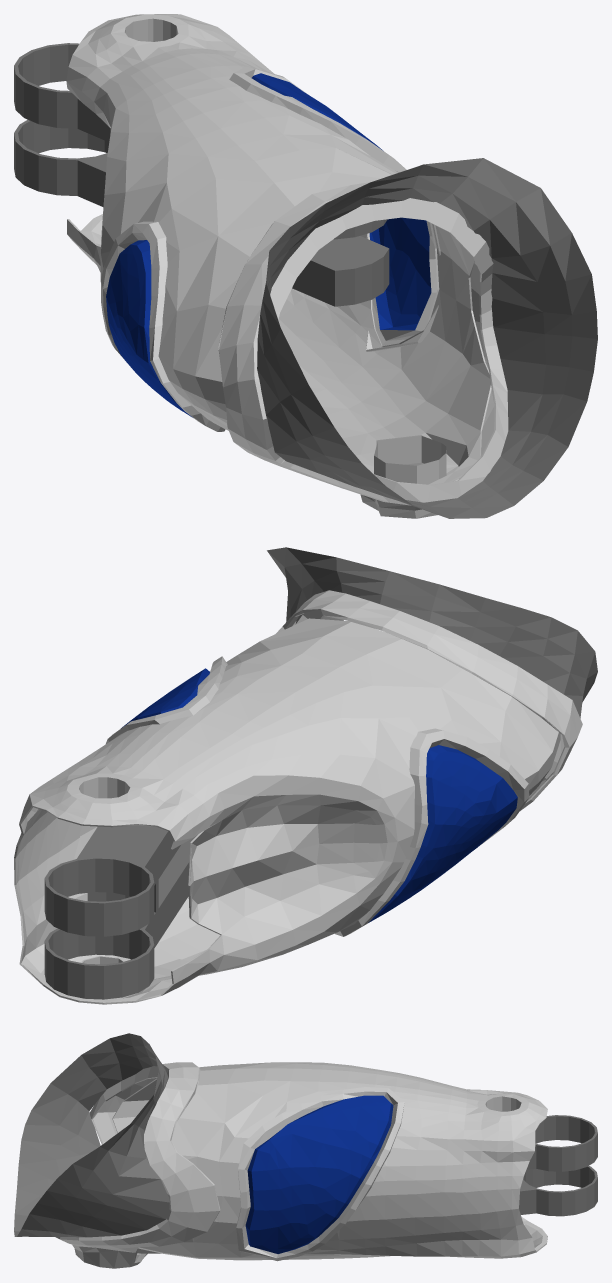
The model's file is RHipPitch.obj.
3 views of the same model, one above another, from view 1: azimuth 30°, elevation 25°; view 2: azimuth 150°, elevation 25°; view 3: azimuth 270°, elevation 25° (orthographic). The views are drawn at different scales.
Visible parts, largest first — view 1: RHipPitch, Object002_skip_001_Object002.004; view 2: RHipPitch, Object002_skip_001_Object002.004; view 3: RHipPitch, Object002_skip_001_Object002.004.
Boxes of the visible parts, bbox=[...] form: RHipPitch: bbox=[66, 14, 597, 518]; Object002_skip_001_Object002.004: bbox=[14, 43, 389, 306]; RHipPitch: bbox=[14, 547, 597, 1004]; Object002_skip_001_Object002.004: bbox=[44, 825, 197, 999]; RHipPitch: bbox=[14, 1033, 547, 1268]; Object002_skip_001_Object002.004: bbox=[519, 1115, 597, 1216].
Size of the model in its own units: 0.1968 by 0.1641 by 0.4386.
